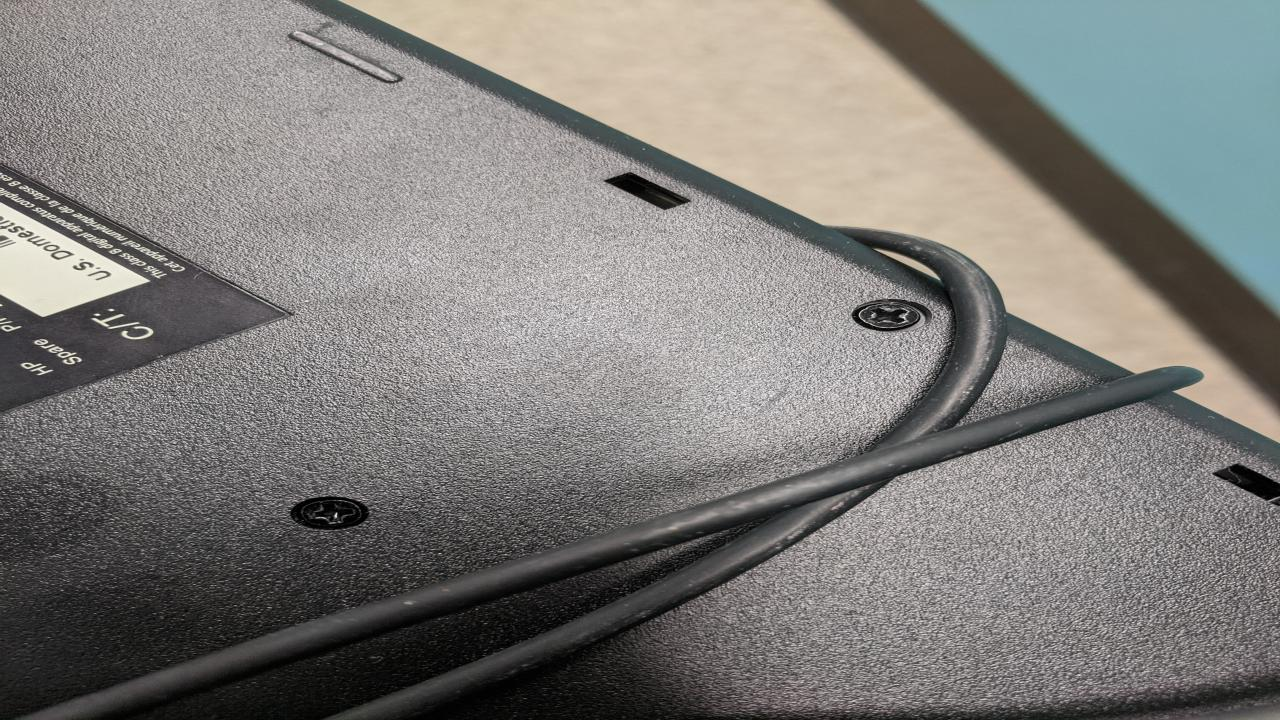CRS: (856, 298, 926, 333), (292, 499, 367, 529)
